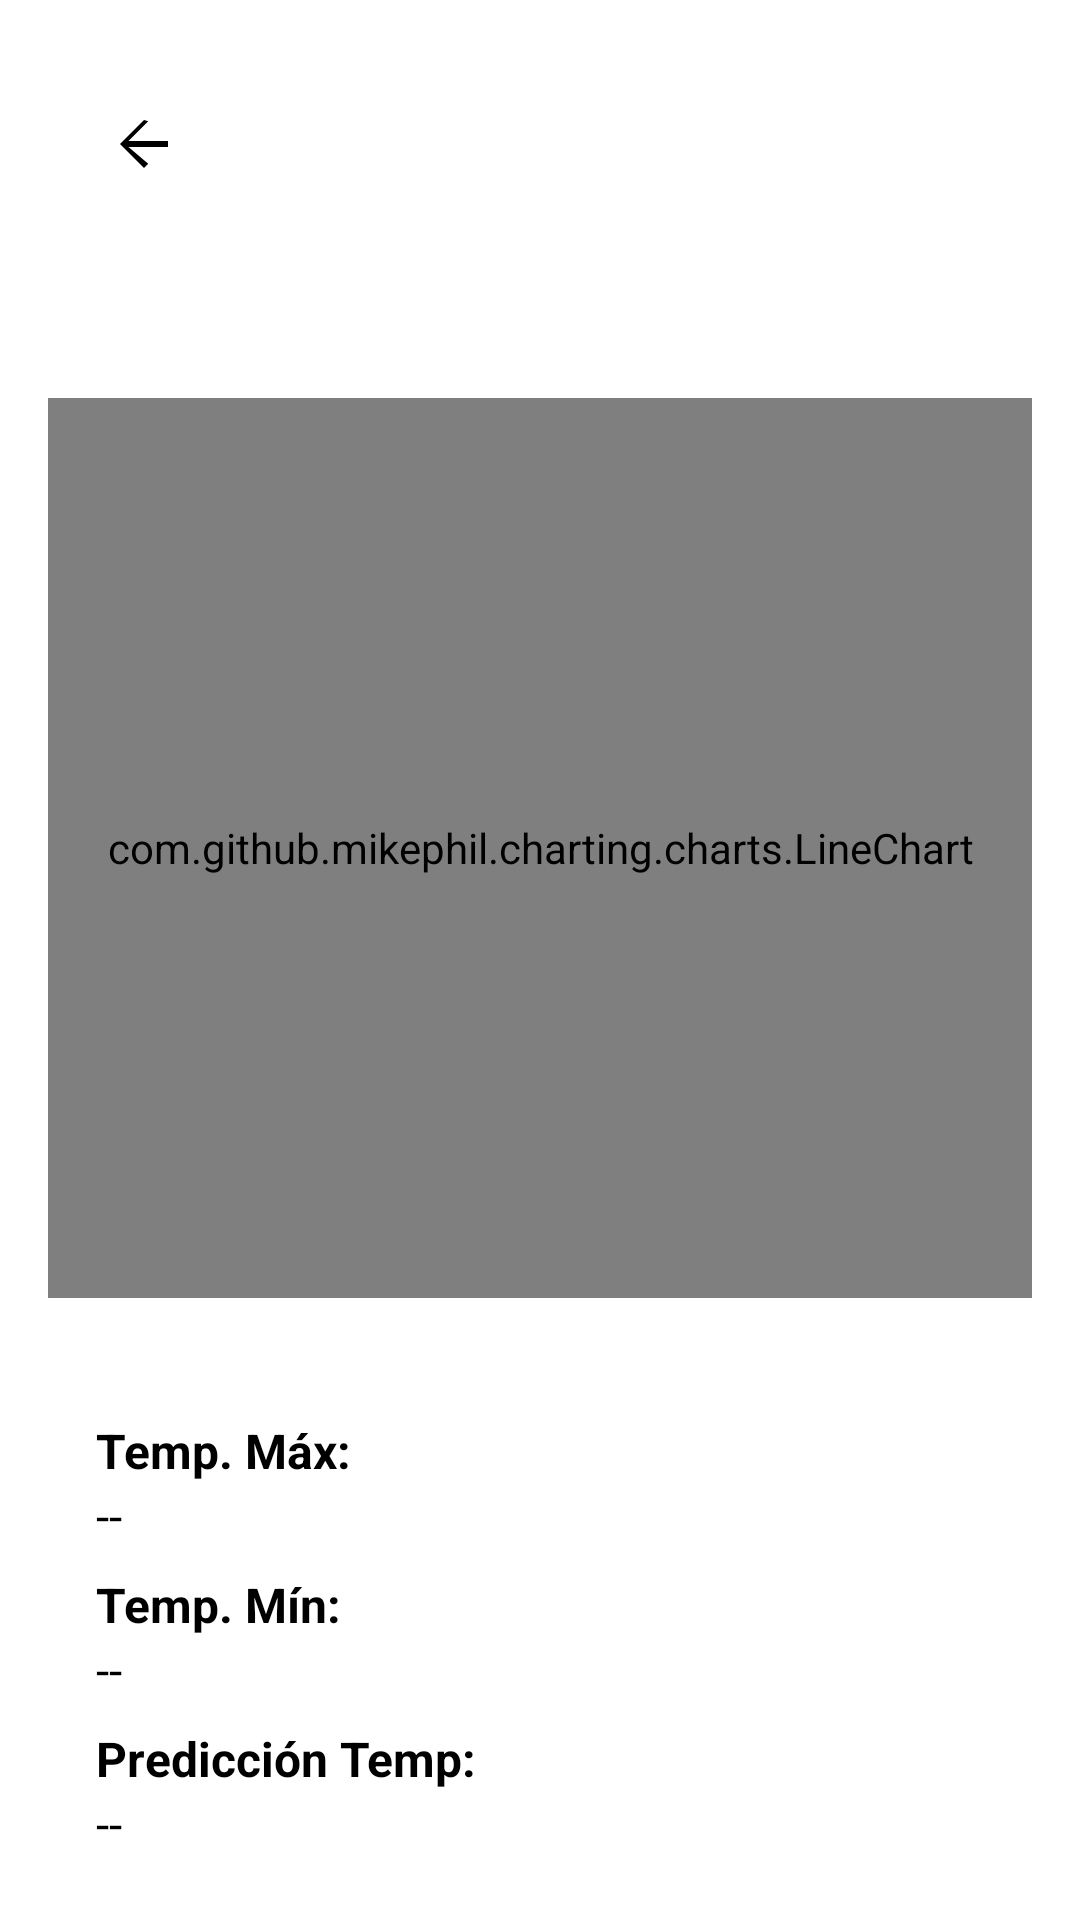

Icon click points for this 1080 x 1920 phone screenshot, format point (x, y):
Botón de regreso: point (144, 144)
